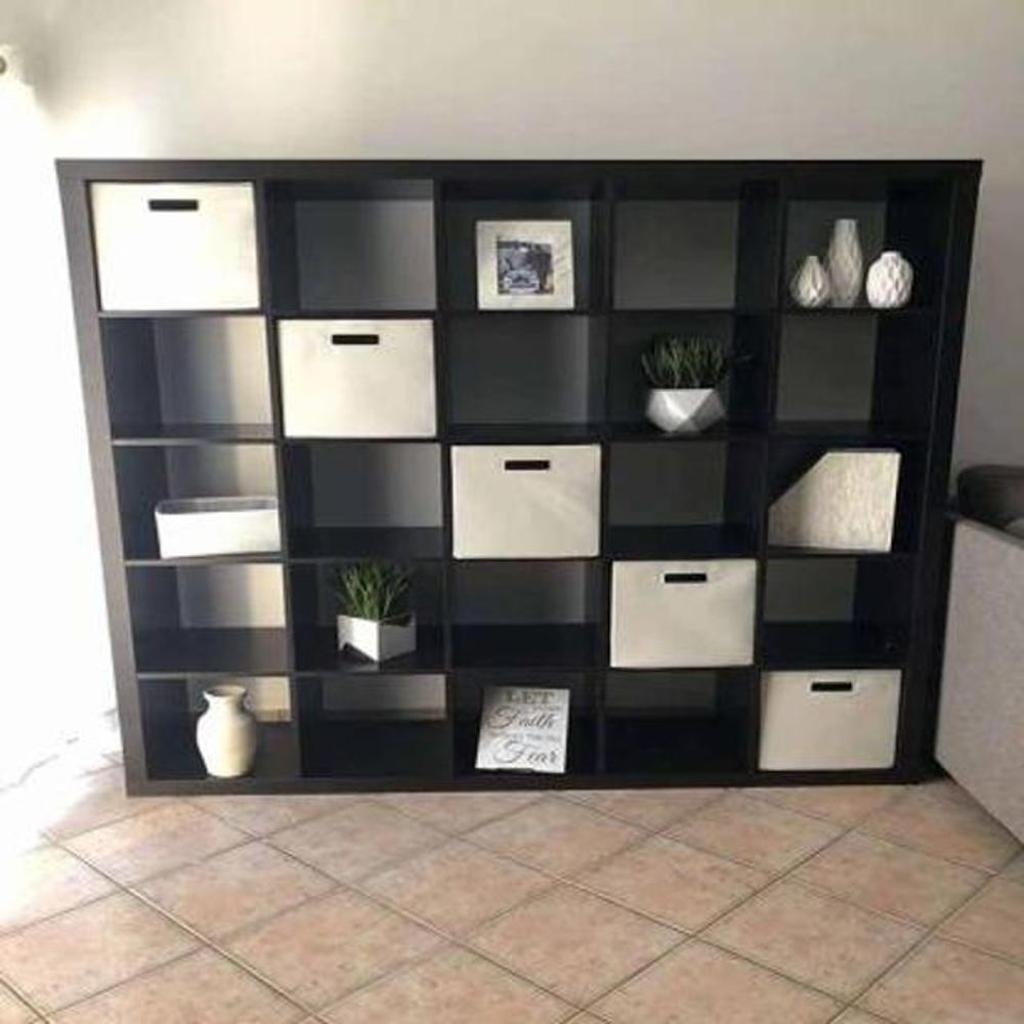lamp: (47, 154, 984, 801)
